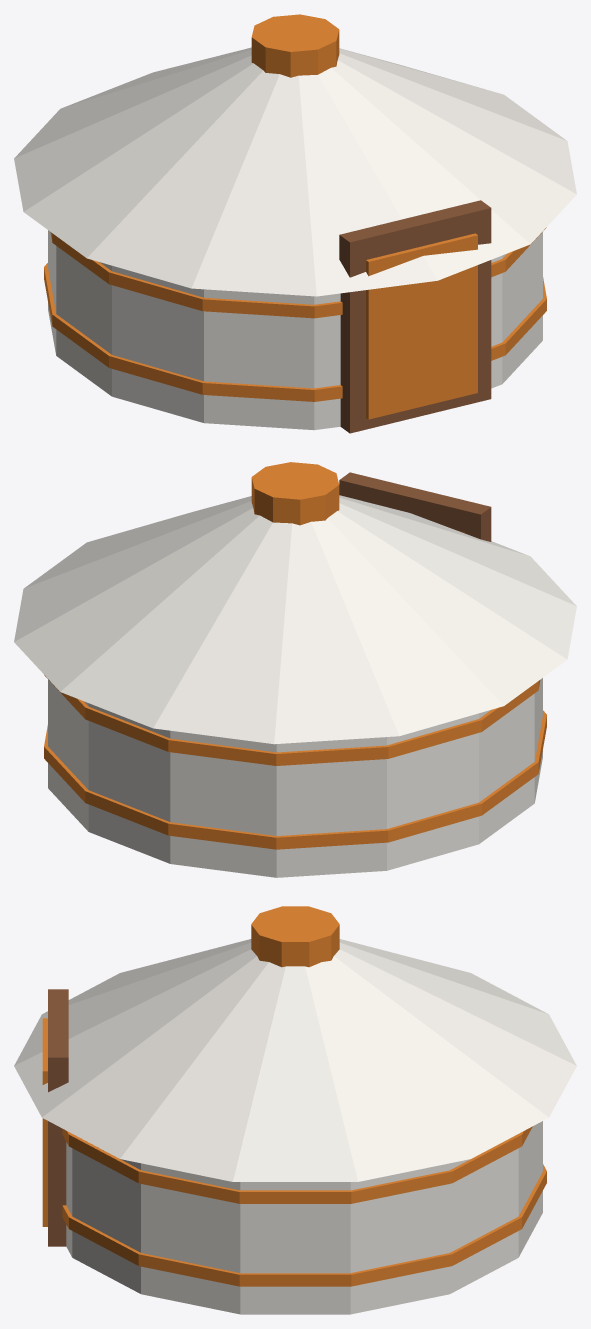
The model's file is ger.glb.
The picture shows the model from 3 angles, top to bottom: view 1: azimuth 30°, elevation 25°; view 2: azimuth 150°, elevation 25°; view 3: azimuth 270°, elevation 25°; orthographic projection.
Parts seen in each view (by area): view 1: Ger; view 2: Ger; view 3: Ger.
Part boxes in pixels (bbox=[...]): Ger: bbox=[14, 14, 576, 433]; Ger: bbox=[14, 462, 576, 877]; Ger: bbox=[14, 906, 576, 1314].
Bounding box in the file's own units: 2.11 × 1.22 × 2.16.
